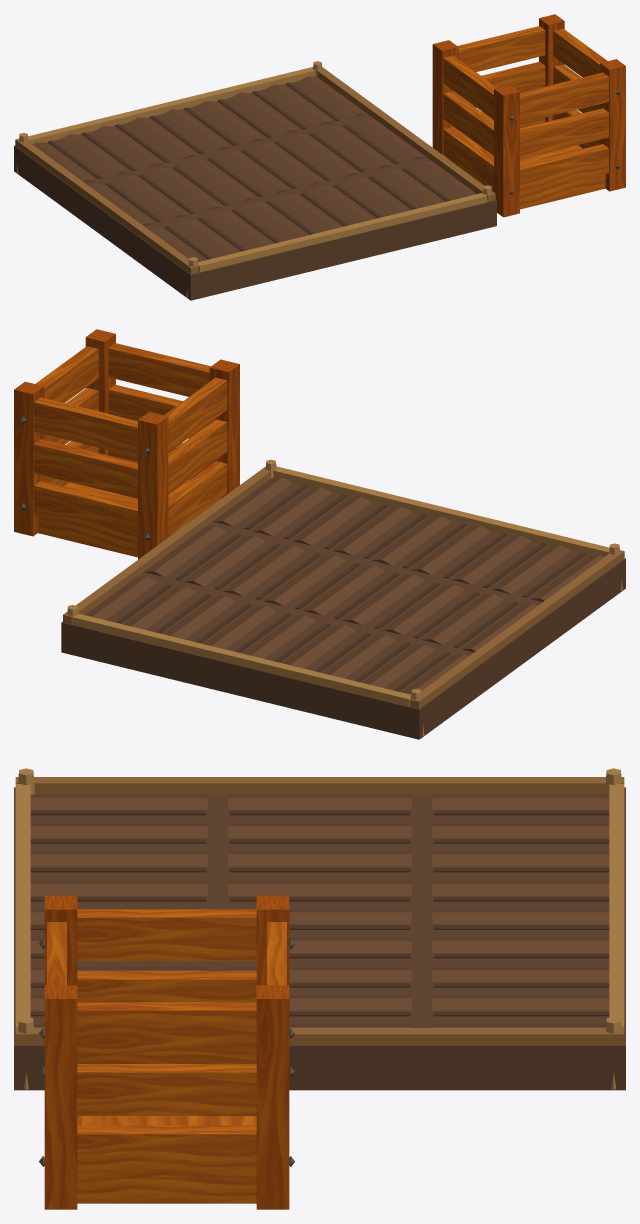
Rendered from farm-with-box.gltf.
3 views of the same model, one above another, from view 1: azimuth 30°, elevation 25°; view 2: azimuth 150°, elevation 25°; view 3: azimuth 270°, elevation 25° (orthographic). The views are drawn at different scales.
Visible parts, largest first — view 1: farm-with-box; view 2: farm-with-box; view 3: farm-with-box.
Part boxes in pixels (left/top/right/bottom): farm-with-box: left=14, top=14, right=625, bottom=300; farm-with-box: left=14, top=329, right=625, bottom=739; farm-with-box: left=14, top=768, right=625, bottom=1209.
Bounding box in the file's own units: 2.91 × 0.759 × 2.
2 materials, 1 textured.
